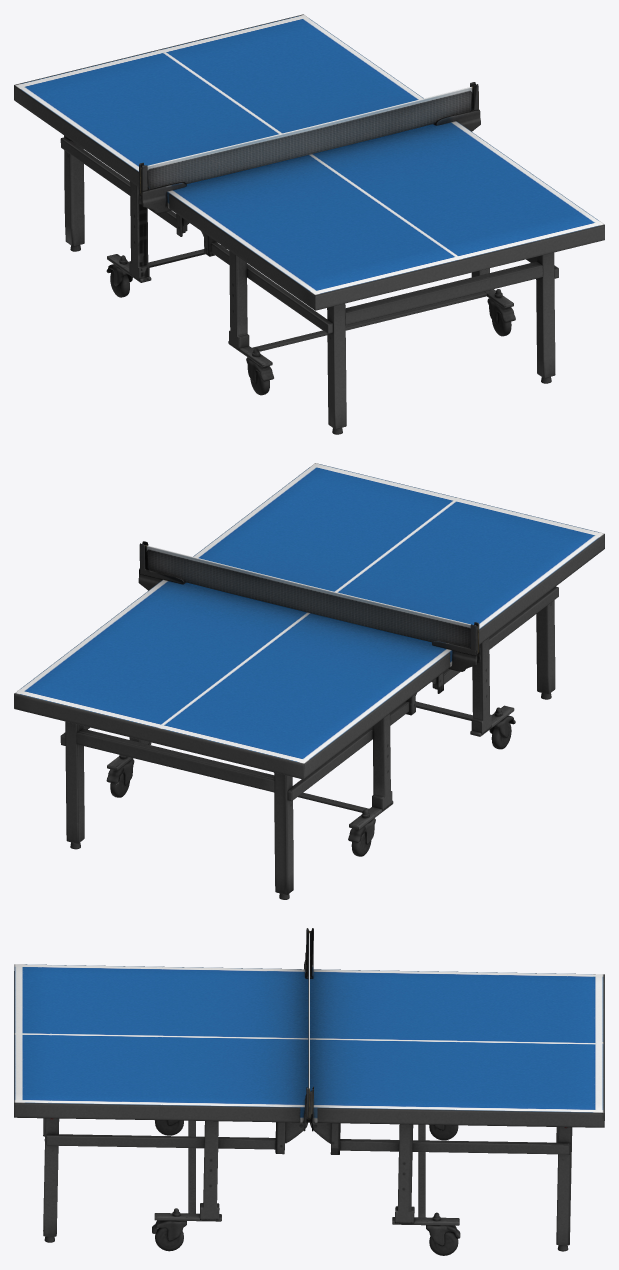
The model's file is tenis-meja.gltf.
3 renders of one model, top to bottom at view 1: azimuth 30°, elevation 25°; view 2: azimuth 150°, elevation 25°; view 3: azimuth 270°, elevation 25°, orthographic. The views are drawn at different scales.
Parts seen in each view (by area): view 1: 10520_pingpongtable_L2; view 2: 10520_pingpongtable_L2; view 3: 10520_pingpongtable_L2.
Boxes of the visible parts, x1,y1,x2,y2 form: 10520_pingpongtable_L2: (14,14,604,434); 10520_pingpongtable_L2: (14,463,604,899); 10520_pingpongtable_L2: (14,928,604,1255).
Bounding box in the file's own units: 1.73 × 0.9517 × 2.66.
1 material, 1 textured.
